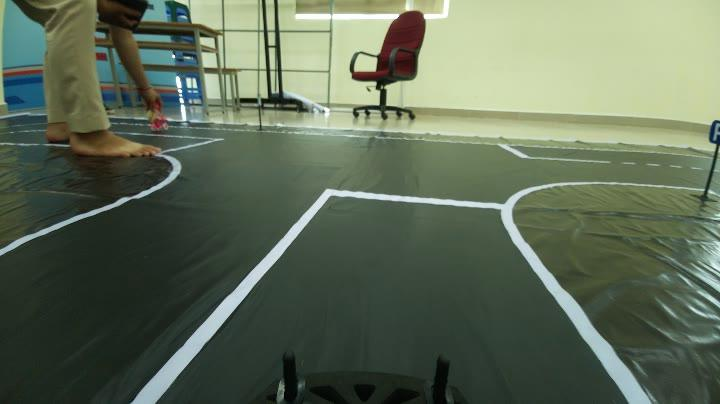parking: (708, 118, 720, 148)
